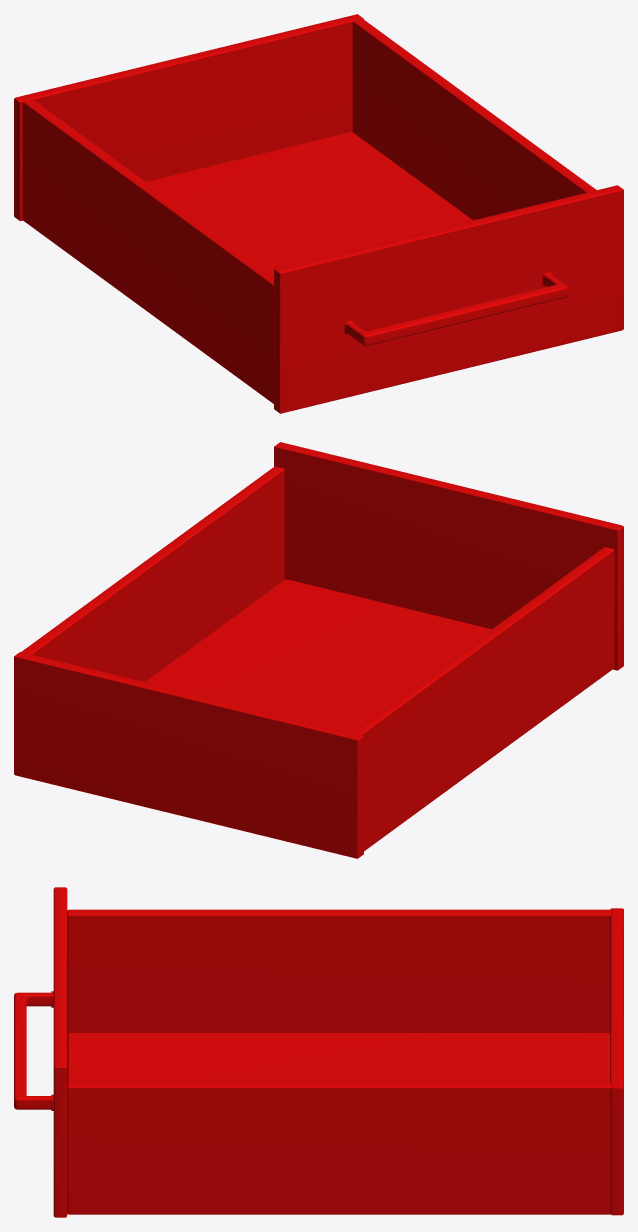
Rendered from Table_2_2.fbx.
The picture shows the model from 3 angles, top to bottom: view 1: azimuth 30°, elevation 25°; view 2: azimuth 150°, elevation 25°; view 3: azimuth 270°, elevation 25°; orthographic projection. The views are drawn at different scales.
Parts seen in each view (by area): view 1: L23:pCube222; view 2: L23:pCube222; view 3: L23:pCube222.
Part boxes in pixels (x1,y1,x2,y2): L23:pCube222: (14,14,623,413); L23:pCube222: (14,442,623,858); L23:pCube222: (14,887,623,1217).
Size of the model in its own units: 47.42 by 18.58 by 67.92.
